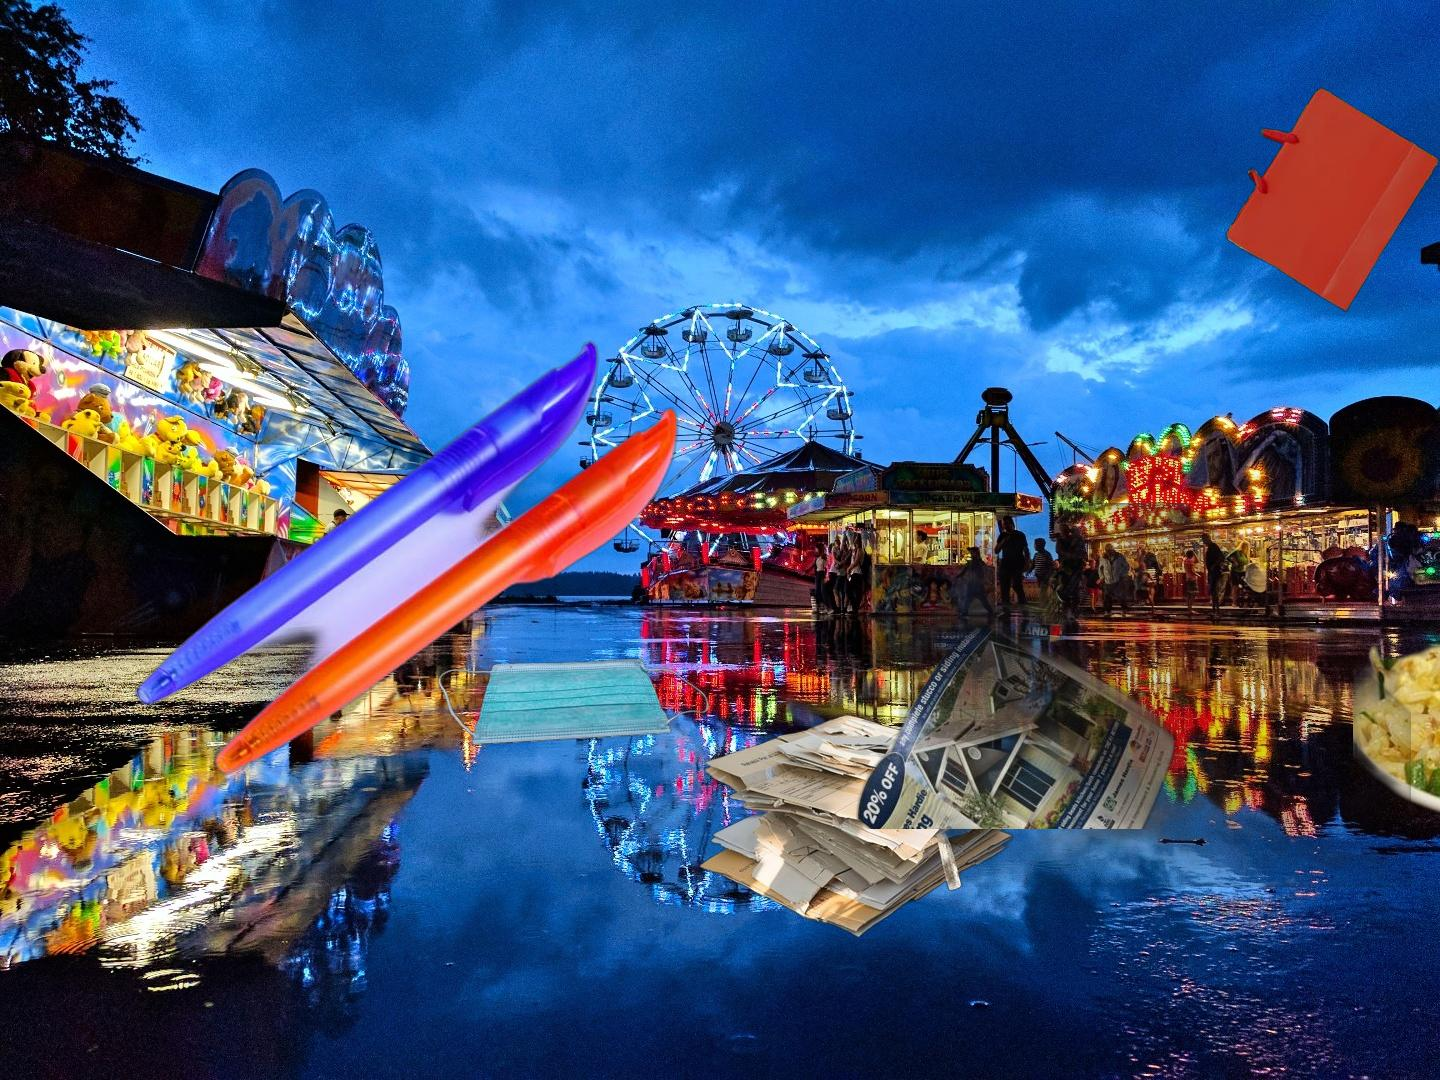battery: (864, 490, 1133, 669)
biological: (1353, 594, 1440, 847)
paper: (785, 445, 1297, 829)
paper-bag: (1223, 84, 1440, 314)
penholder: (129, 336, 682, 781)
trash: (435, 656, 712, 748)
trashbox-cardboard: (899, 503, 1411, 887), (697, 711, 1041, 940)
